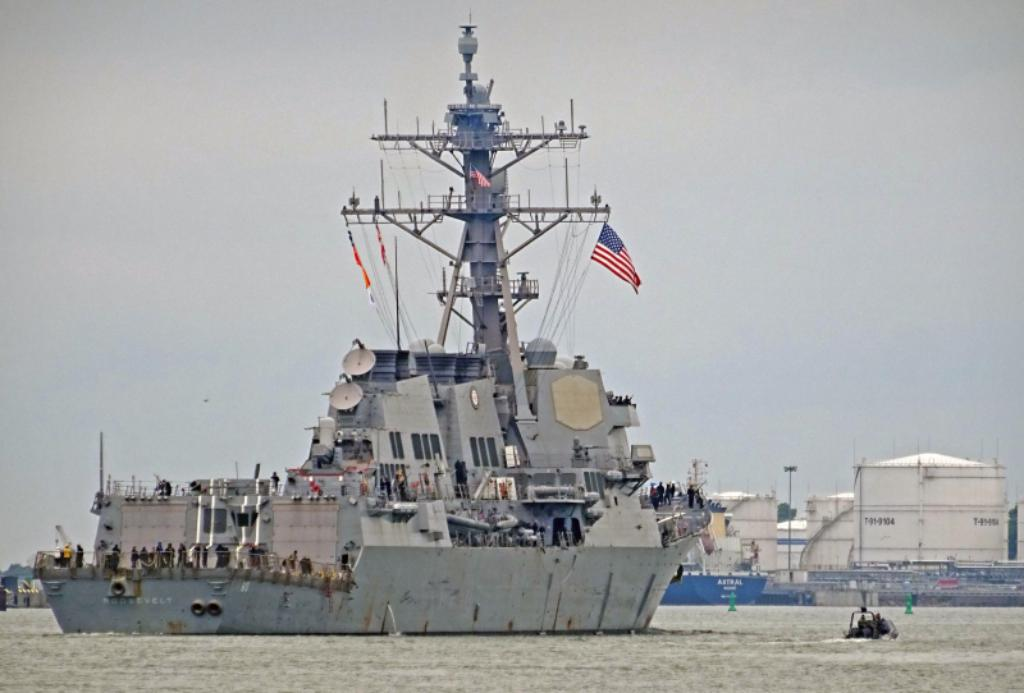Warship: (33, 11, 715, 641)
